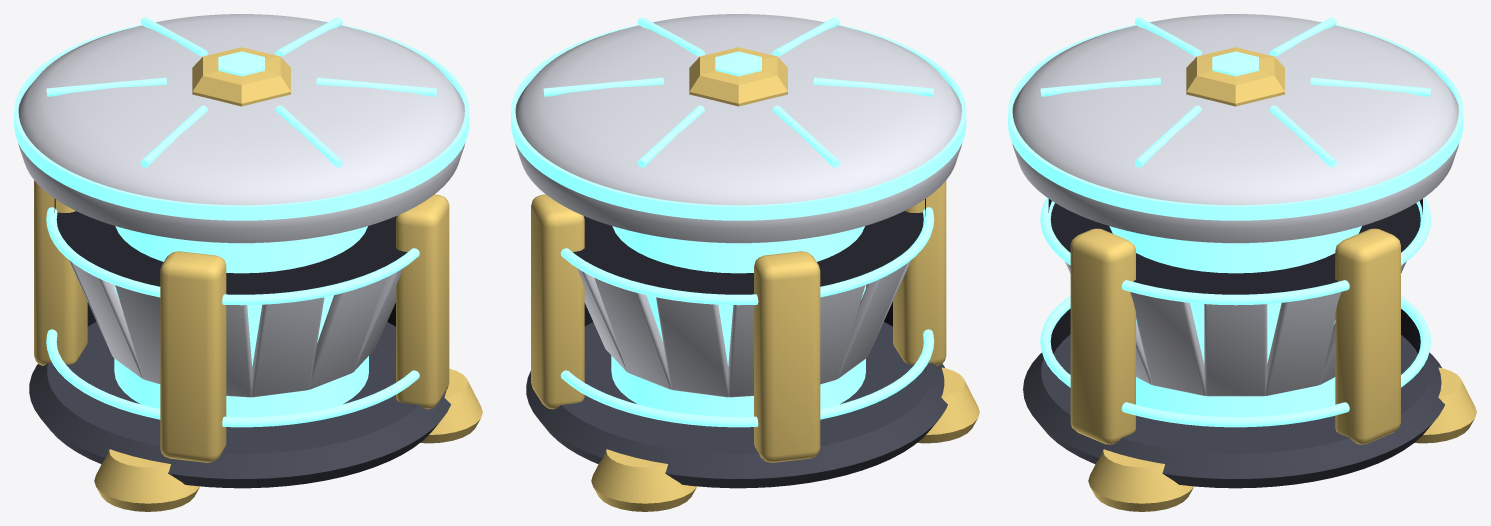
The model's file is CrateDisc.fbx.
3 views of the same model, side by side, from view 1: azimuth 30°, elevation 25°; view 2: azimuth 150°, elevation 25°; view 3: azimuth 270°, elevation 25° (orthographic).
Visible parts, largest first — view 1: CrateDisc_Lid_Chrome, CrateDisc_Gold, CrateDisc_Gunmetal, CrateDisc_Chrome, CrateDisc_Glow, CrateDisc_Lid_Glow, CrateDisc_Dark, CrateDisc_Lid_Gold; view 2: CrateDisc_Lid_Chrome, CrateDisc_Gold, CrateDisc_Gunmetal, CrateDisc_Chrome, CrateDisc_Glow, CrateDisc_Lid_Glow, CrateDisc_Dark, CrateDisc_Lid_Gold; view 3: CrateDisc_Lid_Chrome, CrateDisc_Gold, CrateDisc_Gunmetal, CrateDisc_Glow, CrateDisc_Chrome, CrateDisc_Lid_Glow, CrateDisc_Dark, CrateDisc_Lid_Gold.
Part boxes in pixels (x1,y1,x2,y2): CrateDisc_Lid_Chrome: [18, 14, 465, 243]; CrateDisc_Gold: [34, 180, 482, 511]; CrateDisc_Gunmetal: [29, 322, 450, 488]; CrateDisc_Chrome: [69, 260, 403, 397]; CrateDisc_Glow: [46, 207, 419, 427]; CrateDisc_Lid_Glow: [14, 17, 469, 220]; CrateDisc_Dark: [54, 199, 407, 368]; CrateDisc_Lid_Gold: [192, 47, 290, 106]; CrateDisc_Lid_Chrome: [515, 14, 962, 243]; CrateDisc_Gold: [531, 180, 979, 511]; CrateDisc_Gunmetal: [526, 322, 947, 488]; CrateDisc_Chrome: [577, 260, 911, 397]; CrateDisc_Glow: [560, 207, 934, 427]; CrateDisc_Lid_Glow: [511, 17, 966, 220]; CrateDisc_Dark: [573, 199, 925, 372]; CrateDisc_Lid_Gold: [689, 47, 787, 106]; CrateDisc_Lid_Chrome: [1012, 14, 1459, 243]; CrateDisc_Gold: [1070, 228, 1476, 511]; CrateDisc_Gunmetal: [1023, 334, 1444, 488]; CrateDisc_Glow: [1040, 197, 1431, 427]; CrateDisc_Chrome: [1065, 261, 1406, 396]; CrateDisc_Lid_Glow: [1008, 17, 1463, 220]; CrateDisc_Dark: [1048, 199, 1422, 369]; CrateDisc_Lid_Gold: [1186, 47, 1284, 106].
Size of the model in its own units: 3.04 by 2.67 by 3.13.
